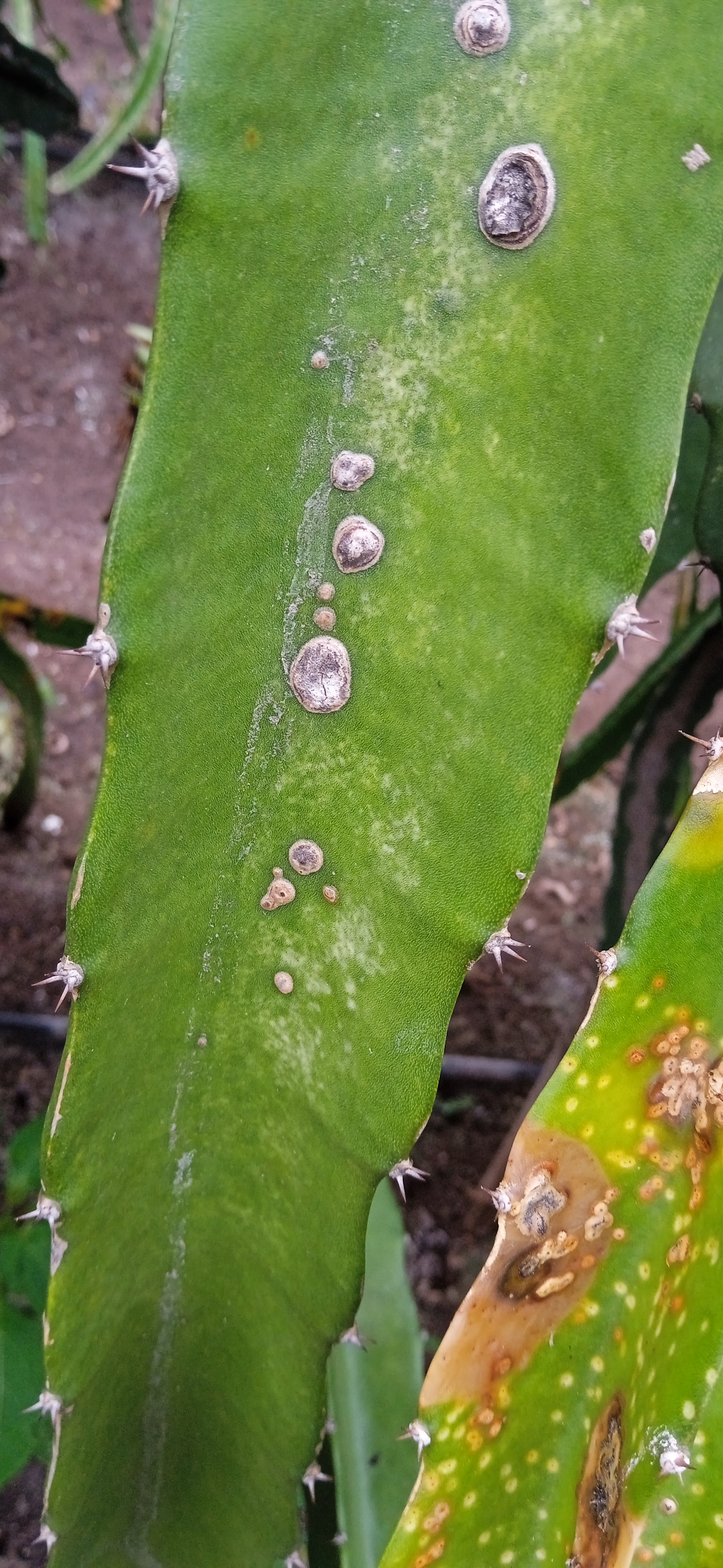stemcanker: (29, 2, 717, 1568), (410, 988, 723, 1568)
